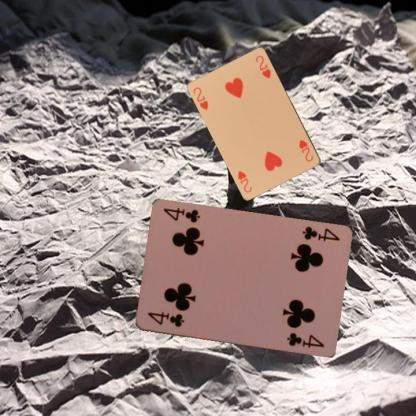2h: (191, 84, 210, 112), (296, 137, 314, 163)
4c: (144, 309, 186, 329), (299, 224, 341, 242)
